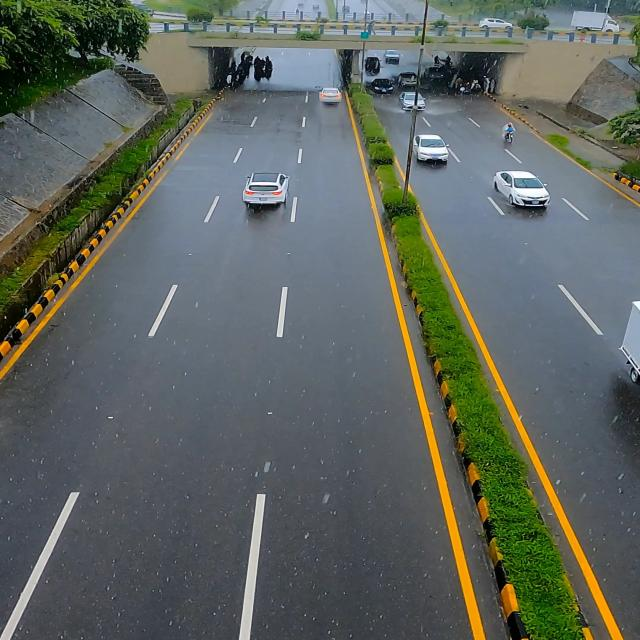Car: (490, 169, 554, 215), (243, 170, 299, 211), (408, 132, 453, 169)
